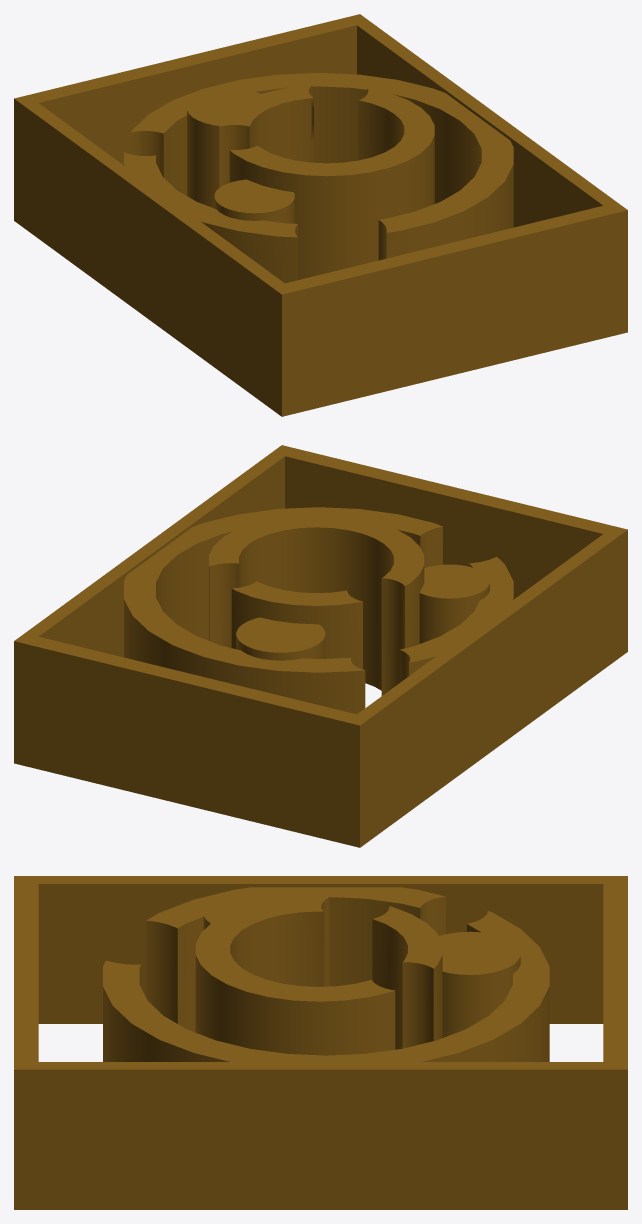
File: Map5.obj
3 views of the same model, one above another, from view 1: azimuth 30°, elevation 25°; view 2: azimuth 150°, elevation 25°; view 3: azimuth 270°, elevation 25° (orthographic). The views are drawn at different scales.
Parts seen in each view (by area): view 1: MAP.EDGE, 布尔; view 2: MAP.EDGE, 布尔; view 3: MAP.EDGE, 布尔.
Boxes of the visible parts, x1,y1,x2,y2 form: MAP.EDGE: [14, 14, 627, 416]; 布尔: [124, 72, 513, 283]; MAP.EDGE: [14, 445, 627, 847]; 布尔: [124, 507, 513, 714]; MAP.EDGE: [14, 876, 627, 1209]; 布尔: [103, 887, 549, 1061].
Size of the model in its own units: 5990 by 2455 by 8030.
